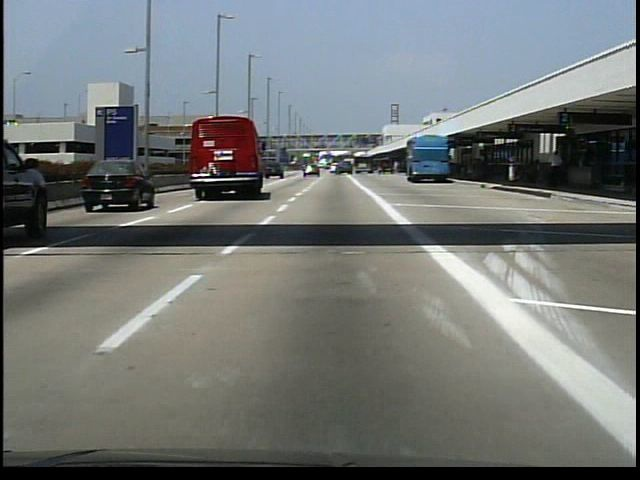person: (548, 151, 564, 189)
